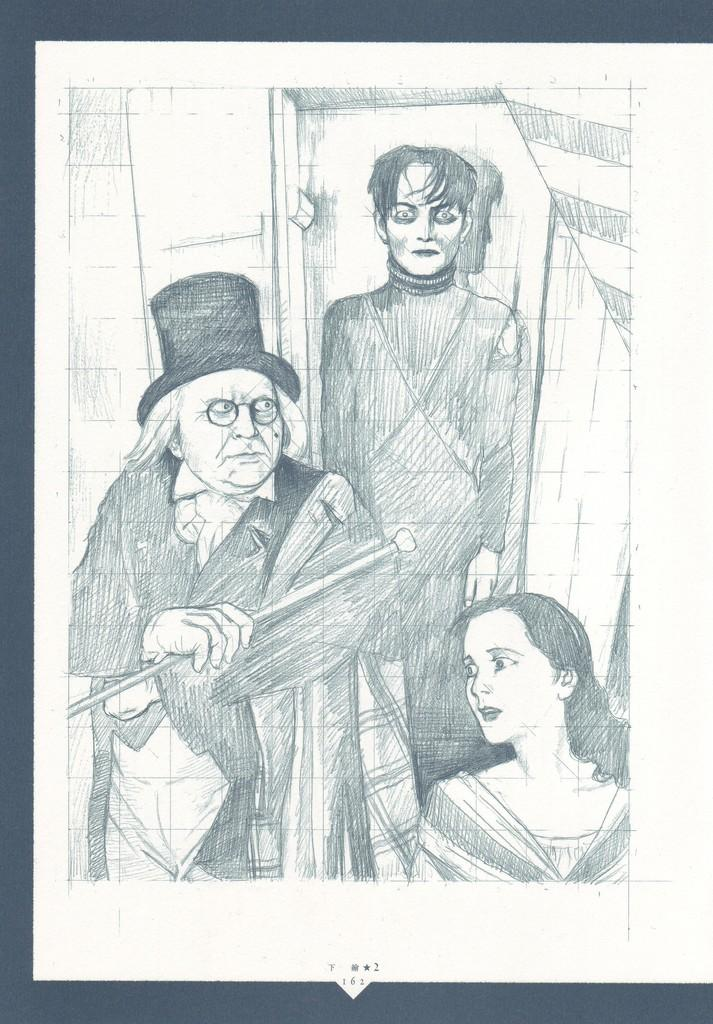Hat: (133, 268, 303, 424)
